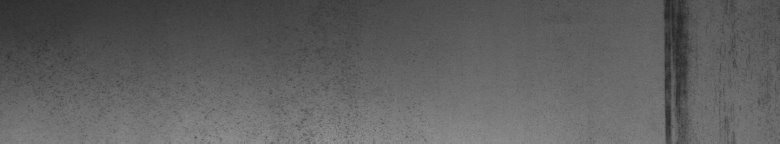hd: (657, 4, 760, 136)
